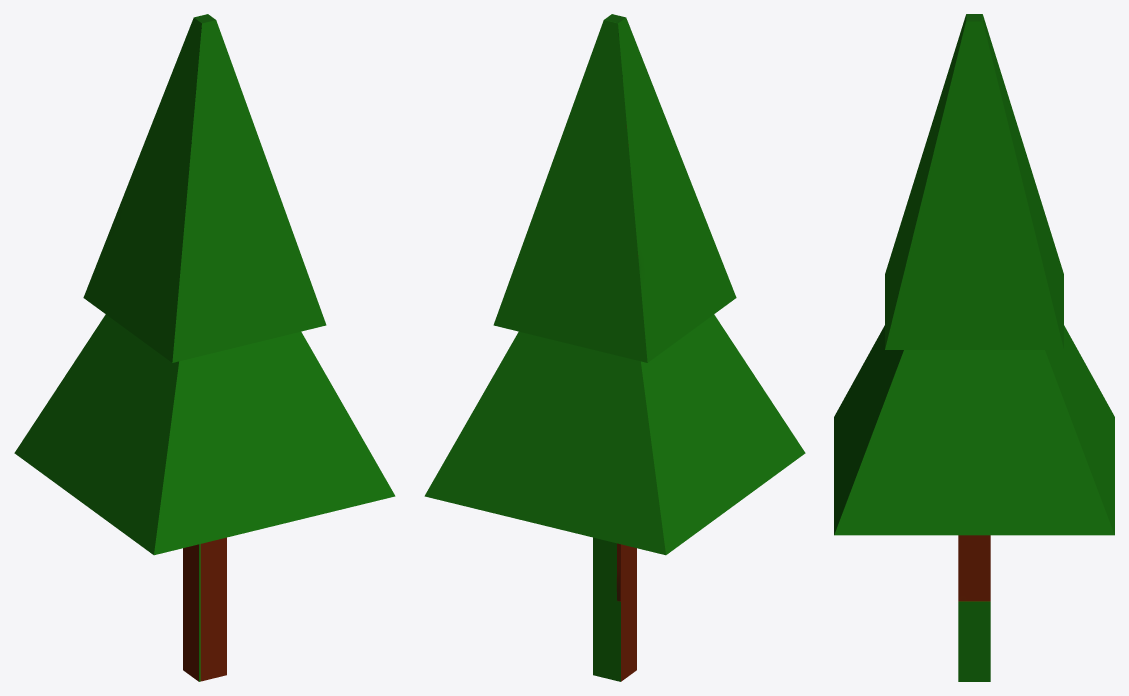
The model's file is pinetree.fbx.
The picture shows the model from 3 angles, left to right: view 1: azimuth 30°, elevation 25°; view 2: azimuth 150°, elevation 25°; view 3: azimuth 270°, elevation 25°; orthographic projection.
Visible parts, largest first — view 1: Tree; view 2: Tree; view 3: Tree.
Part boxes in pixels (x1,y1,x2,y2): Tree: [14, 14, 395, 681]; Tree: [424, 14, 805, 681]; Tree: [834, 14, 1114, 681].
Bounding box in the file's own units: 0.1212 × 0.3133 × 0.1212.
1 material, 1 textured.
